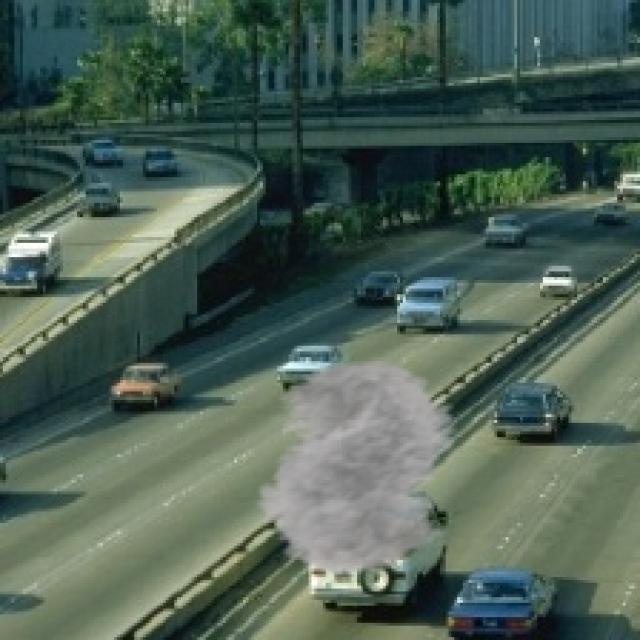Smoke: (237, 357, 483, 577)
